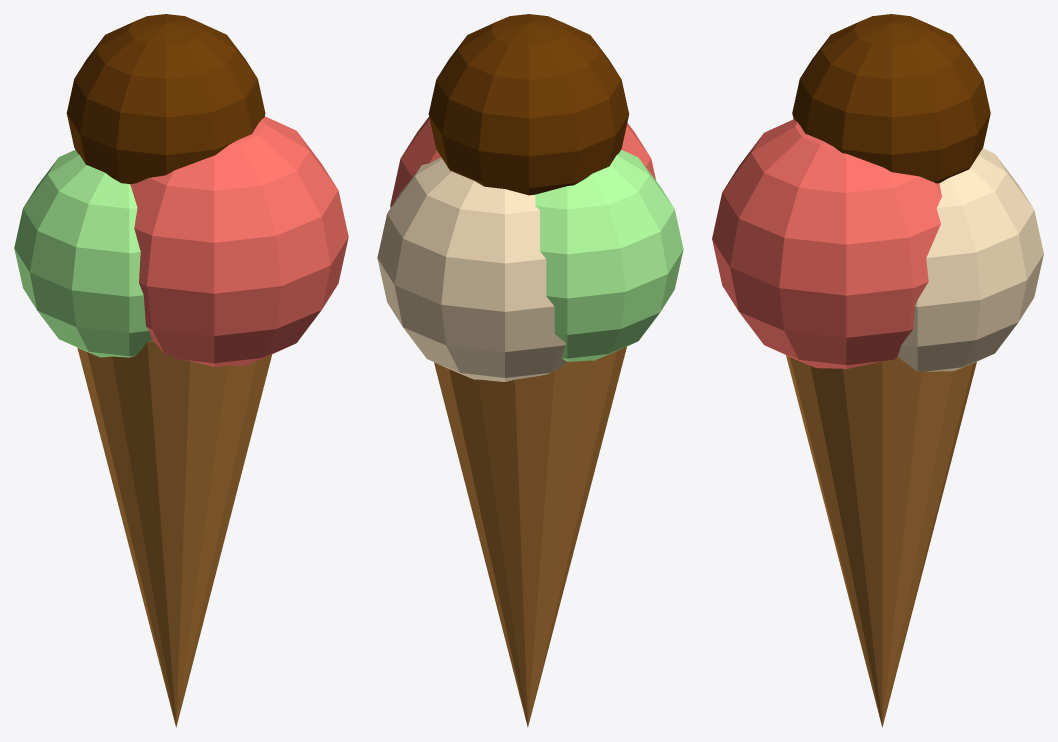
File: ice.fbx
The picture shows the model from 3 angles, left to right: view 1: azimuth 30°, elevation 25°; view 2: azimuth 150°, elevation 25°; view 3: azimuth 270°, elevation 25°; orthographic projection.
Visible parts, largest first — view 1: Ice; view 2: Ice; view 3: Ice.
Part boxes in pixels (x1,y1,x2,y2): Ice: (14,14,348,727); Ice: (377,14,683,727); Ice: (712,14,1043,727).
Bounding box in the file's own units: 101 × 244 × 105.
